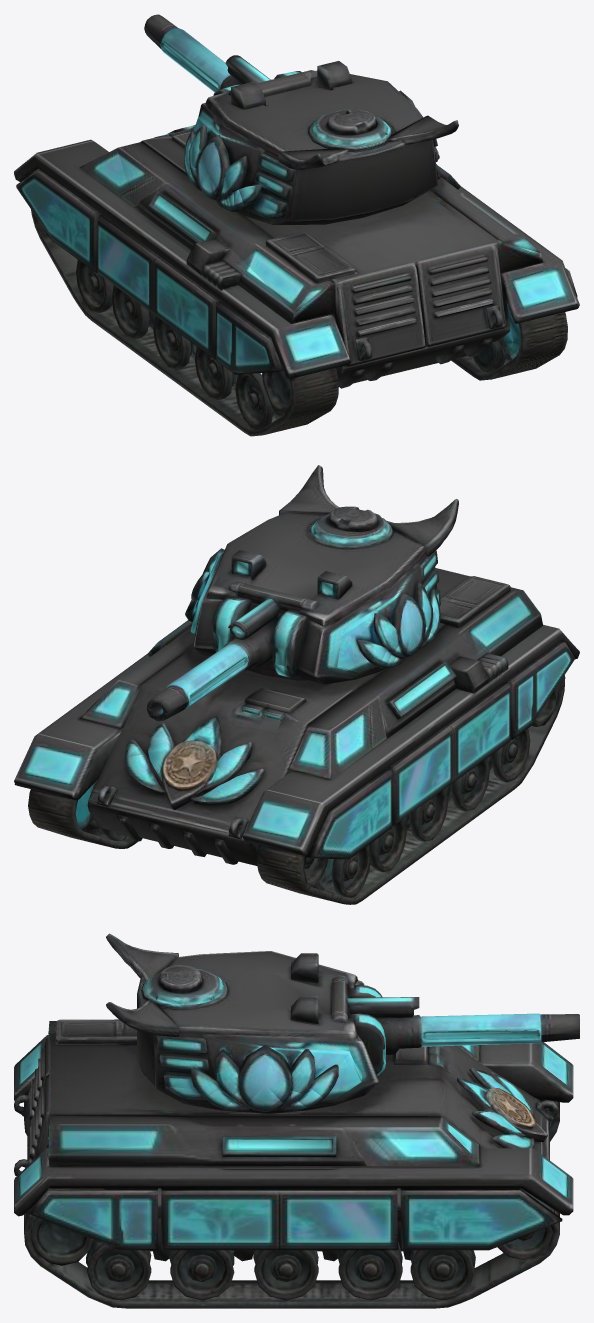
The model's file is charcoal_mortar.glb.
3 renders of one model, top to bottom at view 1: azimuth 30°, elevation 25°; view 2: azimuth 150°, elevation 25°; view 3: azimuth 270°, elevation 25°, orthographic.
Parts seen in each view (by area): view 1: Body, Turret, Trim, Barrel; view 2: Body, Turret, Trim, Barrel; view 3: Body, Trim, Turret, Barrel.
Boxes of the visible parts, x1,y1,x2,y2 form: Body: (14,29,579,436); Turret: (184,55,458,224); Trim: (19,42,574,369); Barrel: (144,14,239,88); Body: (14,568,579,904); Turret: (185,465,458,677); Trim: (18,590,540,853); Barrel: (146,624,259,712); Body: (14,1019,579,1308); Trim: (15,1024,572,1245); Turret: (106,933,419,1104); Barrel: (397,1009,579,1034).
Size of the model in its own units: 4.28 by 3.61 by 6.81.
Materials: 2 (2 with a texture image).
